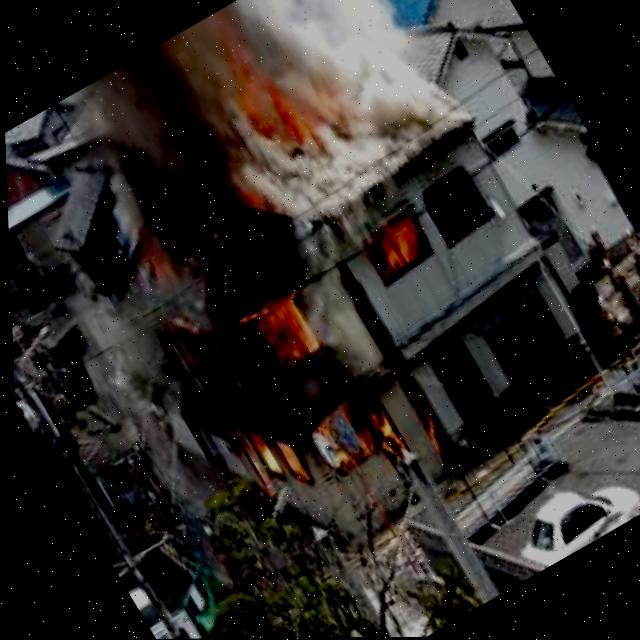Fire: (127, 166, 467, 552), (208, 26, 360, 174), (353, 207, 445, 293)
Smoke: (74, 0, 459, 277)
